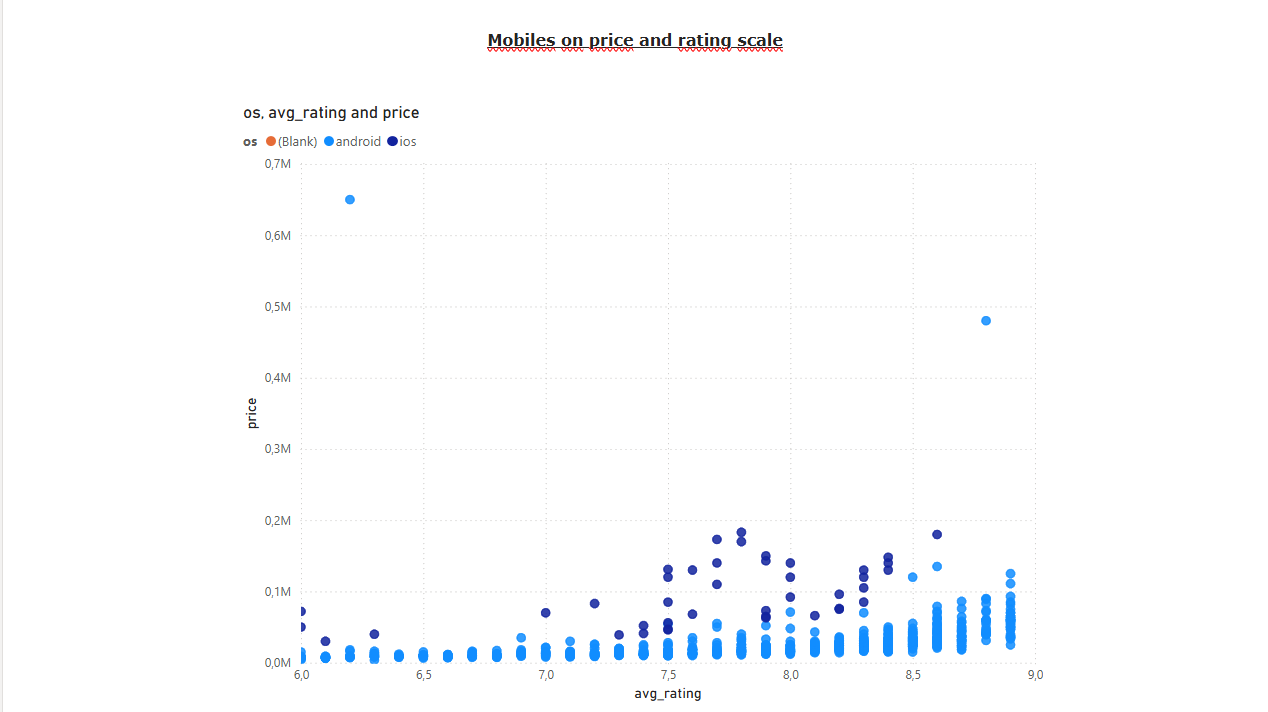

The dashboard page shown, as its layout file describes it:
{"tool":"powerbi","page":{"name":"Report-6","canvas":[1280,720],"ordinal":5},"visuals":[{"type":"scatterChart","fields":{"X":["SmartPhone.avg_rating"],"Series":["SmartPhone.os"],"Y":["SmartPhone.price"]},"box":[243,105,810,604],"z":0},{"type":"textbox","box":[235,28,810,56],"z":1}]}

Visuals, with their boxes in screenshot pixels (x1, y1, x2, y2), scaled from the page's 1280x720 canvas onto the 1268x712 screenshot:
scatterChart - SmartPhone.avg_rating x SmartPhone.os: rect(241, 104, 1043, 701)
textbox: rect(233, 28, 1035, 83)
